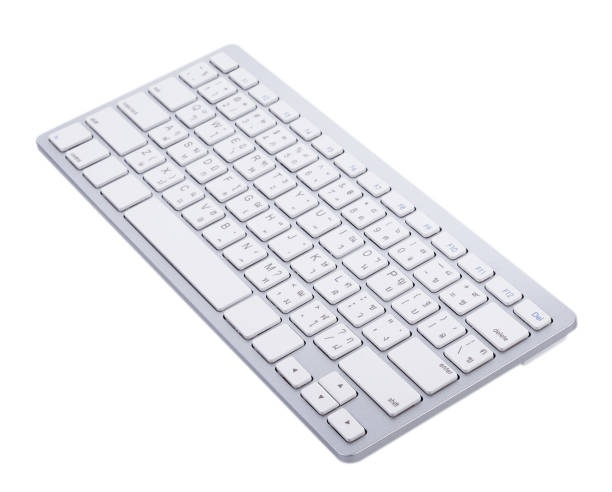keyboard: (35, 44, 575, 460)
